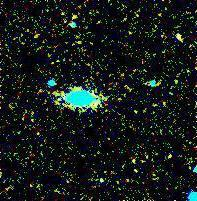star: (57, 1, 87, 31)
